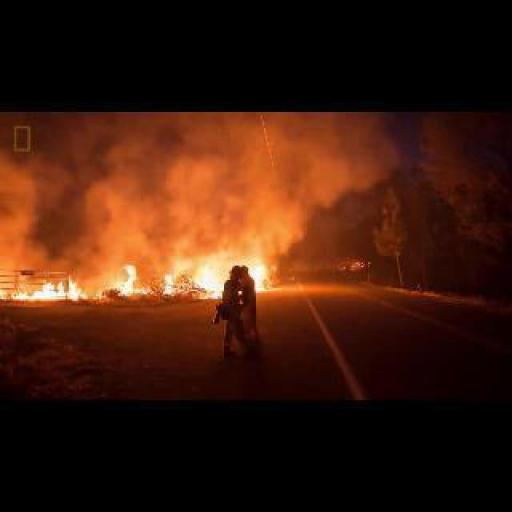smoke: (80, 108, 395, 262), (0, 141, 66, 272), (162, 248, 228, 299), (94, 264, 149, 301), (11, 277, 90, 301), (252, 262, 274, 293)
